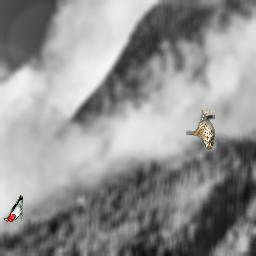Sparrow: (186, 110, 215, 150)
Woodpecker: (3, 195, 23, 222)
